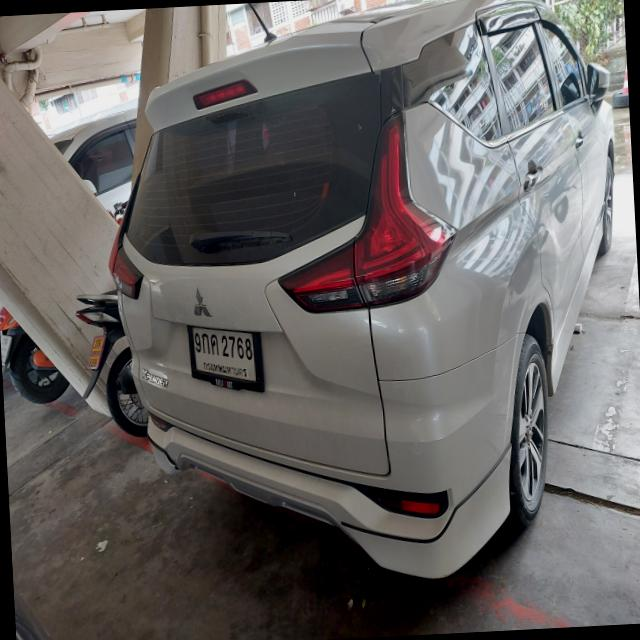license_plate: (186, 316, 266, 399)
